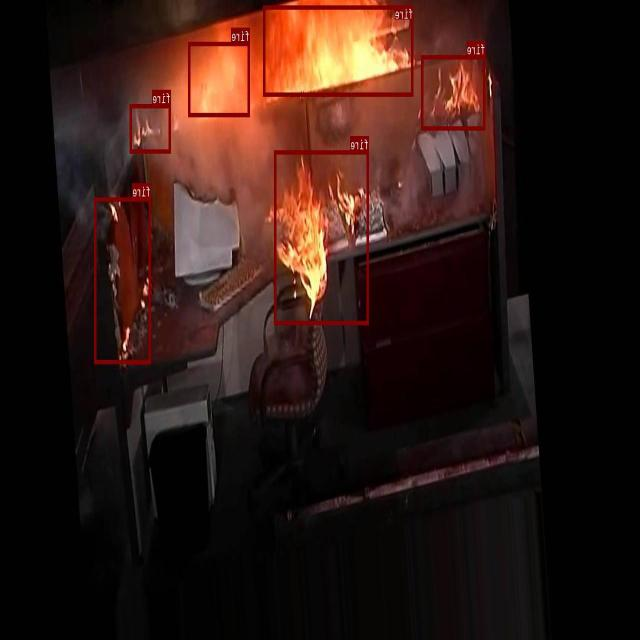fire: (275, 150, 369, 324), (264, 5, 414, 96), (95, 197, 151, 364), (422, 55, 486, 129), (189, 41, 250, 116), (130, 104, 171, 152)
